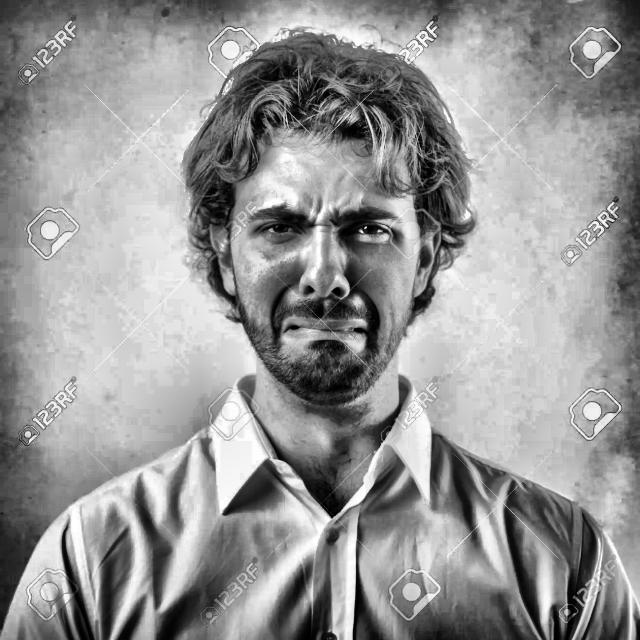sad: (176, 48, 478, 417)
